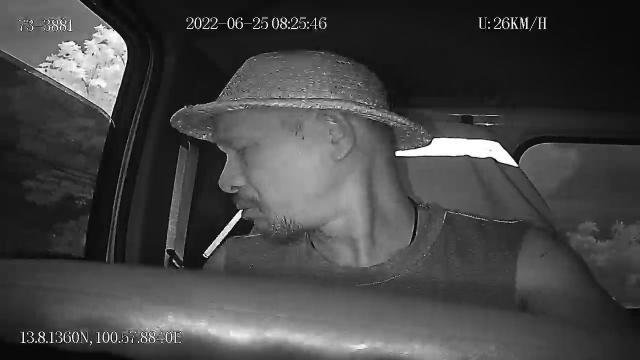Smoking: (200, 205, 247, 259)
